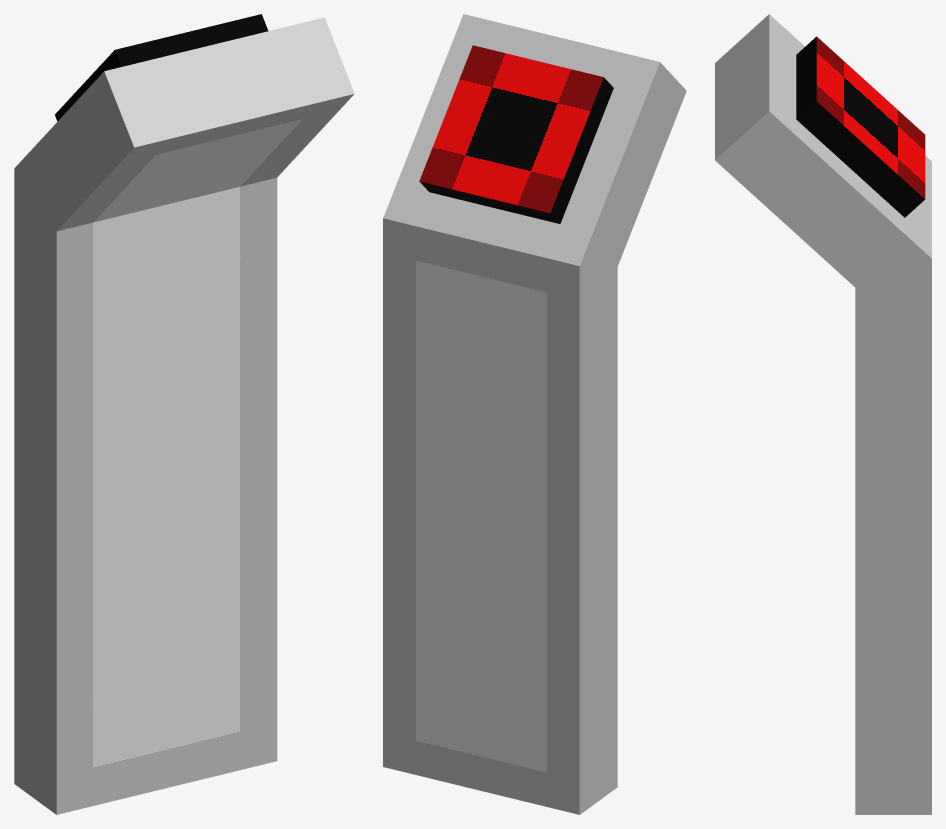
The model's file is Door.fbx.
3 renders of one model, left to right at view 1: azimuth 30°, elevation 25°; view 2: azimuth 150°, elevation 25°; view 3: azimuth 270°, elevation 25°, orthographic. The views are drawn at different scales.
Parts seen in each view (by area): view 1: cube, cube_1, cube_2; view 2: cube, cube_1, cube_2; view 3: cube, cube_1, cube_2.
Part boxes in pixels (x1,y1,x2,y2): cube: [14, 169, 277, 814]; cube_1: [14, 17, 354, 244]; cube_2: [55, 14, 268, 121]; cube: [383, 218, 617, 814]; cube_1: [383, 14, 686, 294]; cube_2: [419, 45, 613, 223]; cube: [855, 258, 931, 814]; cube_1: [715, 14, 931, 307]; cube_2: [796, 36, 925, 217].
Bounding box in the file's own units: 37.5 × 127 × 35.36.
Materials: 1 (1 with a texture image).
